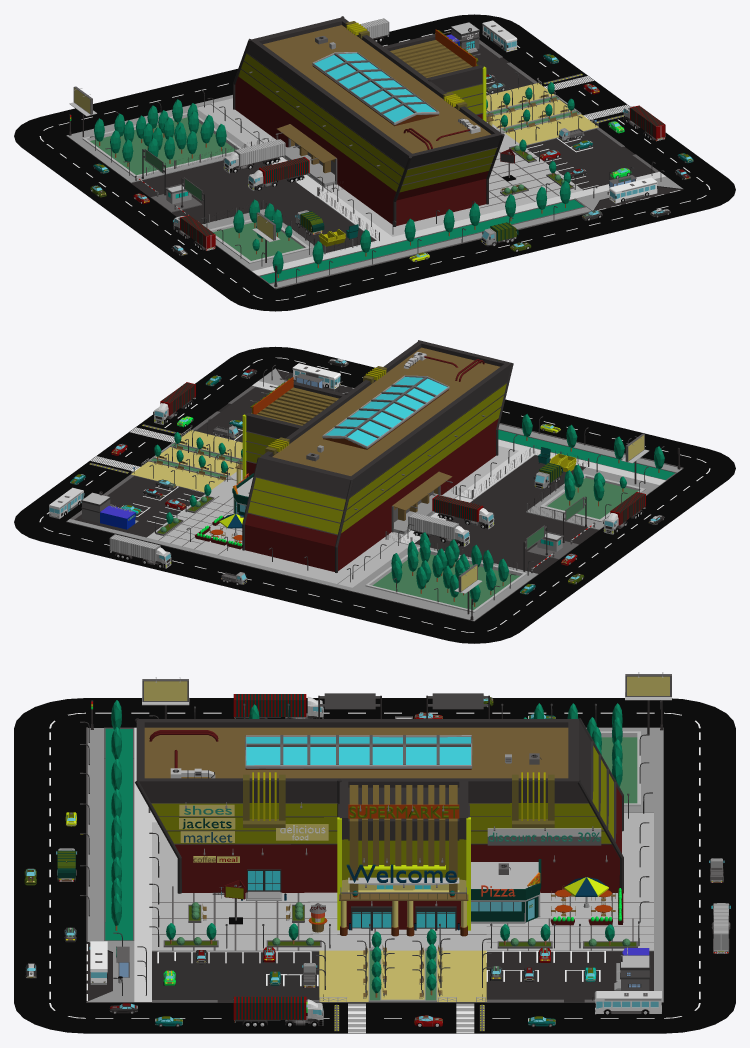
The model's file is supermarket.fbx.
3 views of the same model, one above another, from view 1: azimuth 30°, elevation 25°; view 2: azimuth 150°, elevation 25°; view 3: azimuth 270°, elevation 25° (orthographic). The views are drawn at different scales.
Visible parts, largest first — view 1: Cube.165, Plane.008, Plane.024, Cube.166, Cube.173, Cube.229, Cube.242, Plane.023, Plane.057, Plane.036, Plane.058, Cube.258 (+58 smaller); view 2: Cube.165, Plane.008, Plane.024, Cube.166, Cube.173, Cube.255, Cube.242, Cube.229, Cube.258, Cube.308, Plane.058, Plane.036 (+55 smaller); view 3: Cube.165, Plane.008, Plane.024, Cube.166, Cube.178, Cube.258, Cube.308, Cube.173, Plane.023, Plane.010, Plane.057, Plane.058 (+83 smaller).
Part boxes in pixels (x1,y1,x2,y2): Cube.165: (235, 17, 501, 225); Plane.008: (66, 40, 665, 276); Plane.024: (304, 198, 591, 278); Cube.166: (390, 40, 472, 77); Cube.173: (241, 52, 497, 185); Cube.229: (223, 139, 285, 173); Cube.242: (248, 157, 309, 190); Plane.023: (576, 176, 683, 210); Plane.057: (230, 289, 301, 311); Plane.036: (684, 179, 735, 208); Plane.058: (14, 117, 65, 146); Cube.258: (622, 105, 665, 141); Cube.165: (245, 340, 511, 571); Plane.008: (66, 381, 666, 621); Plane.024: (498, 423, 629, 469); Cube.166: (251, 387, 338, 425); Cube.173: (246, 382, 507, 535); Cube.255: (109, 534, 171, 568); Cube.242: (432, 495, 494, 529); Cube.229: (408, 512, 469, 546); Cube.258: (153, 382, 195, 424); Cube.308: (603, 492, 645, 534); Plane.058: (448, 621, 519, 643); Plane.036: (230, 346, 301, 368); Cube.165: (136, 719, 621, 930); Plane.008: (134, 727, 663, 1002); Plane.024: (86, 758, 134, 940); Cube.166: (349, 785, 457, 892); Cube.178: (471, 859, 541, 922); Cube.258: (233, 996, 323, 1027); Cube.308: (233, 694, 323, 718); Cube.173: (151, 741, 616, 844); Plane.023: (86, 941, 134, 1002); Plane.010: (487, 828, 601, 845); Plane.057: (14, 698, 86, 728); Plane.058: (663, 698, 735, 728).
Bounding box in the file's own units: 3300 × 617 × 3000.
Materials: 2 (2 with a texture image).
